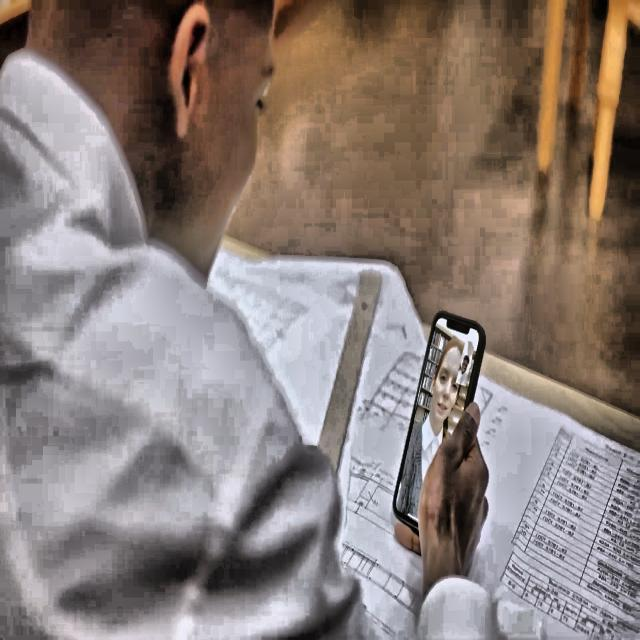Phone: (390, 308, 488, 540)
